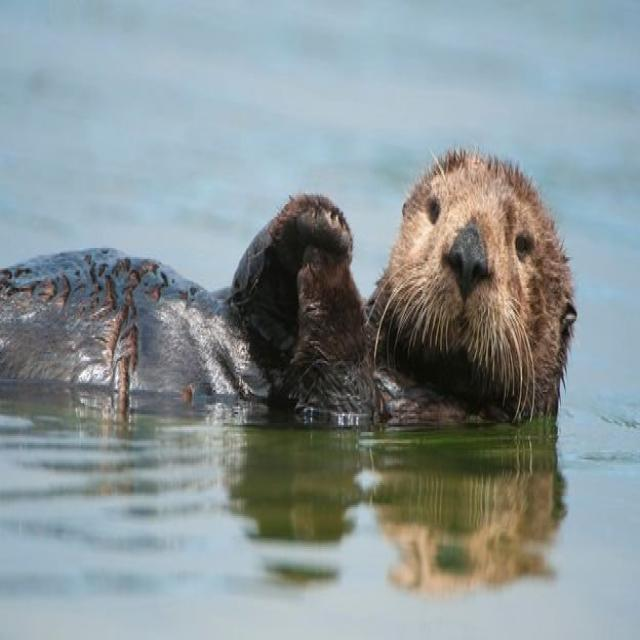Otter: (0, 182, 372, 419), (383, 132, 579, 417)
